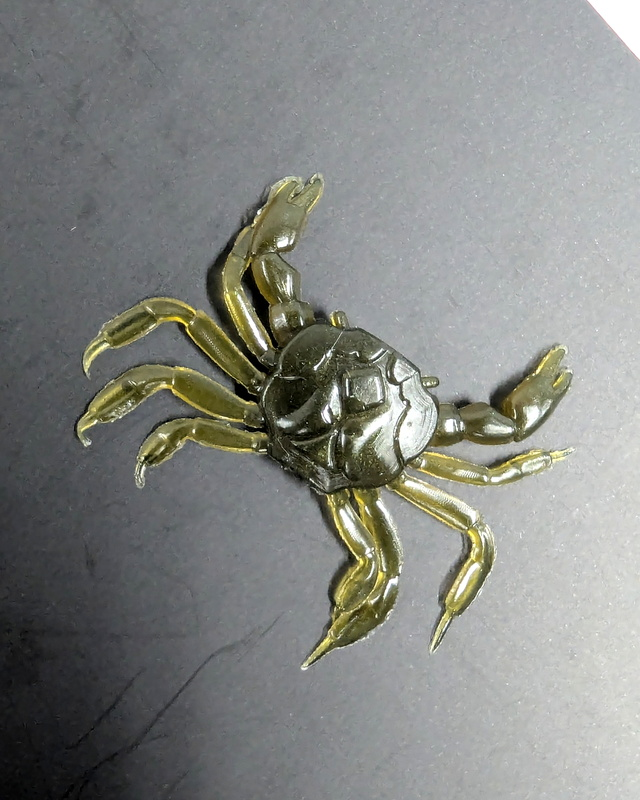crab2: (78, 172, 579, 672)
